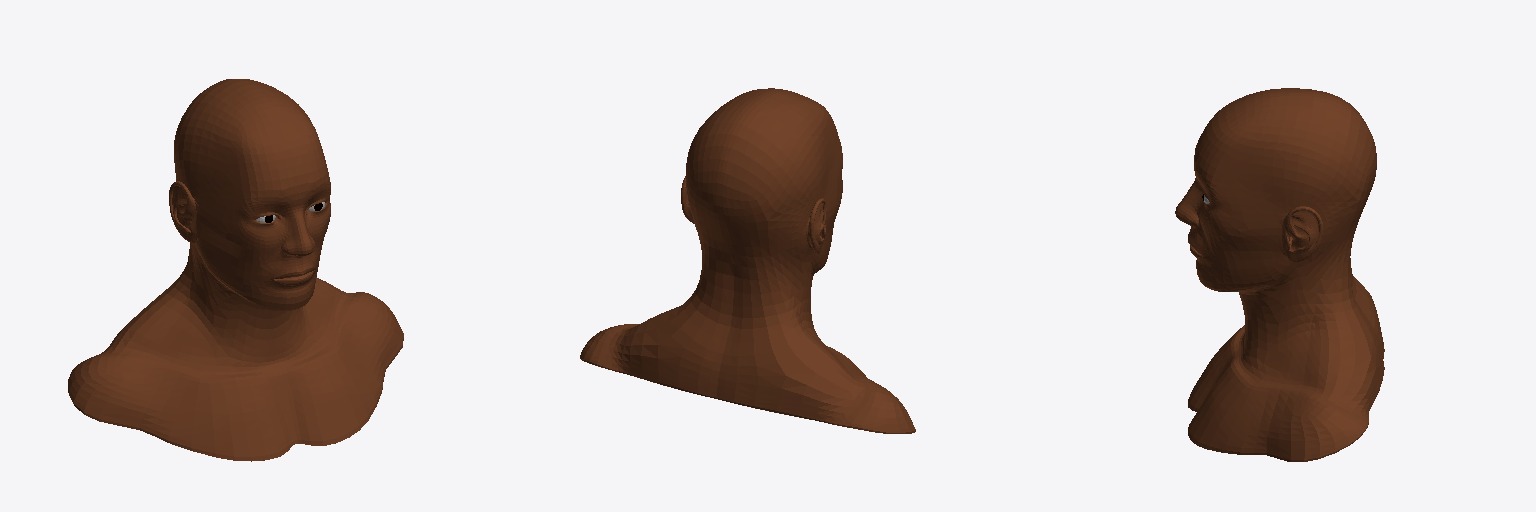
Rendered from simpleBody.obj.
3 renders of one model, left to right at view 1: azimuth 30°, elevation 25°; view 2: azimuth 150°, elevation 25°; view 3: azimuth 270°, elevation 25°, orthographic.
Parts seen in each view (by area): view 1: _Tex_Body:Male_Skin; view 2: _Tex_Body:Male_Skin; view 3: _Tex_Body:Male_Skin.
Boxes of the visible parts, <box> form: _Tex_Body:Male_Skin: <box>68,79,403,461</box>; _Tex_Body:Male_Skin: <box>580,88,915,433</box>; _Tex_Body:Male_Skin: <box>1175,88,1384,461</box>.
Size of the model in its own units: 0.3534 by 0.3377 by 0.1971.